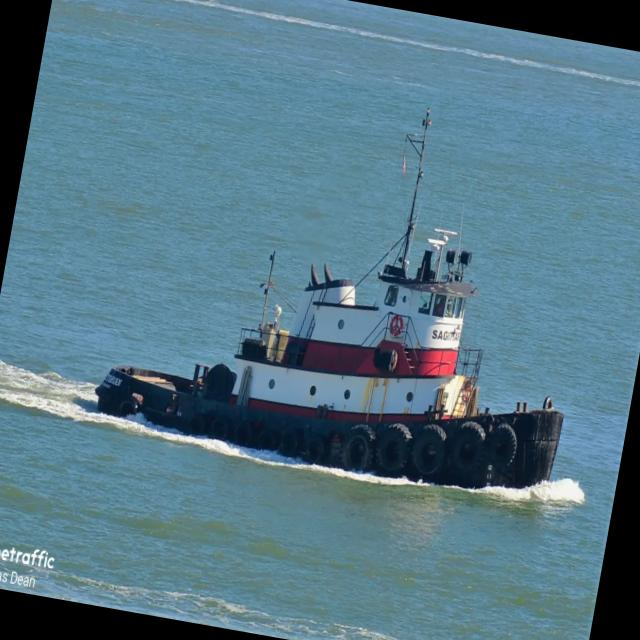Tug: (95, 113, 562, 487)
